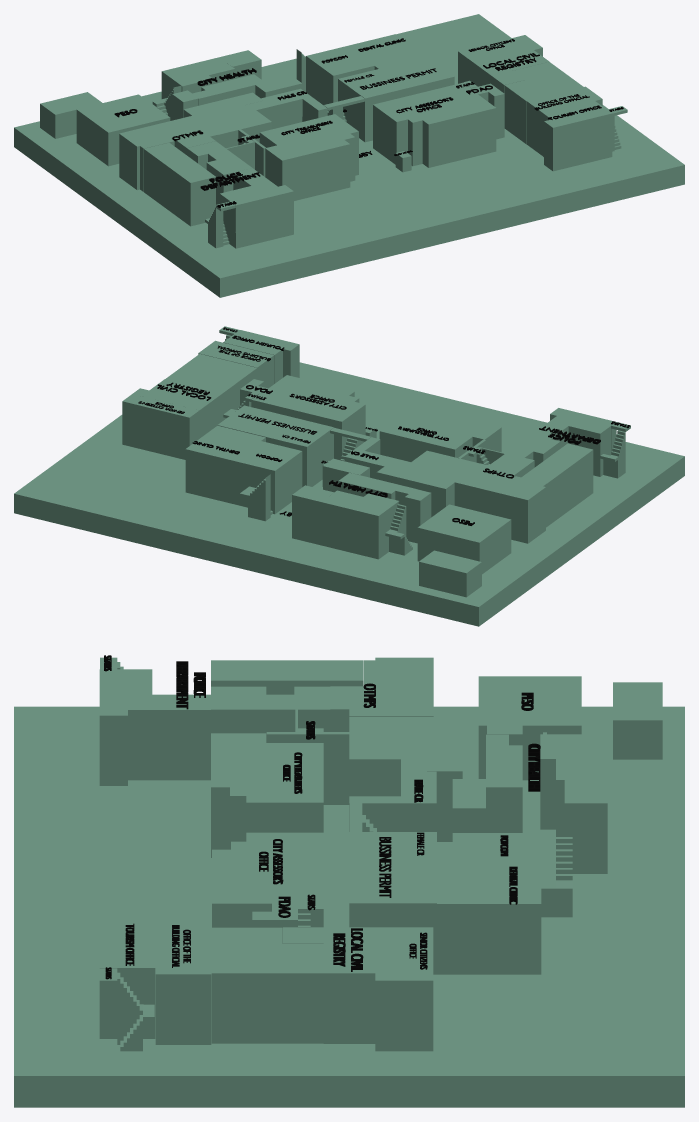
Rendered from OCH GFWL.glb.
The picture shows the model from 3 angles, top to bottom: view 1: azimuth 30°, elevation 25°; view 2: azimuth 150°, elevation 25°; view 3: azimuth 270°, elevation 25°; orthographic projection. The views are drawn at different scales.
Visible parts, largest first — view 1: 1F, PD; view 2: 1F; view 3: 1F, PD, LCV.
Boxes of the visible parts, x1,y1,x2,y2 form: 1F: [14, 14, 684, 297]; PD: [200, 171, 260, 190]; 1F: [14, 326, 684, 626]; 1F: [14, 657, 684, 1107]; PD: [176, 661, 205, 709]; LCV: [333, 928, 363, 971].
Size of what is drawn, in the model's own units: 49.69 by 6.74 by 38.15.
